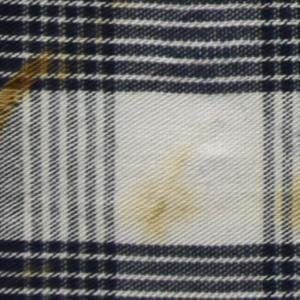Oil Stain: (1, 1, 136, 137), (117, 146, 210, 244)
Stain: (270, 174, 300, 239), (14, 260, 57, 292)
